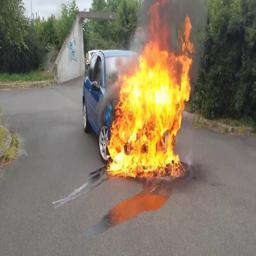fire: (109, 0, 196, 177)
